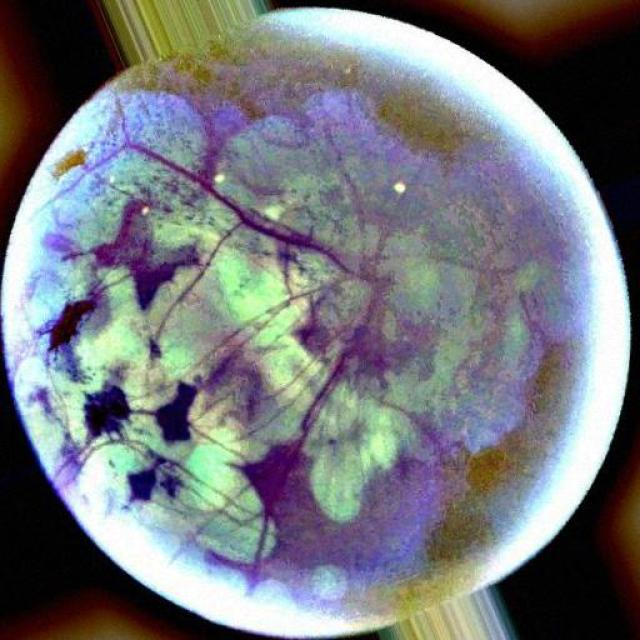Nerves: (243, 286, 376, 606), (123, 139, 388, 282), (173, 280, 348, 386), (314, 118, 378, 268), (160, 226, 233, 347)
